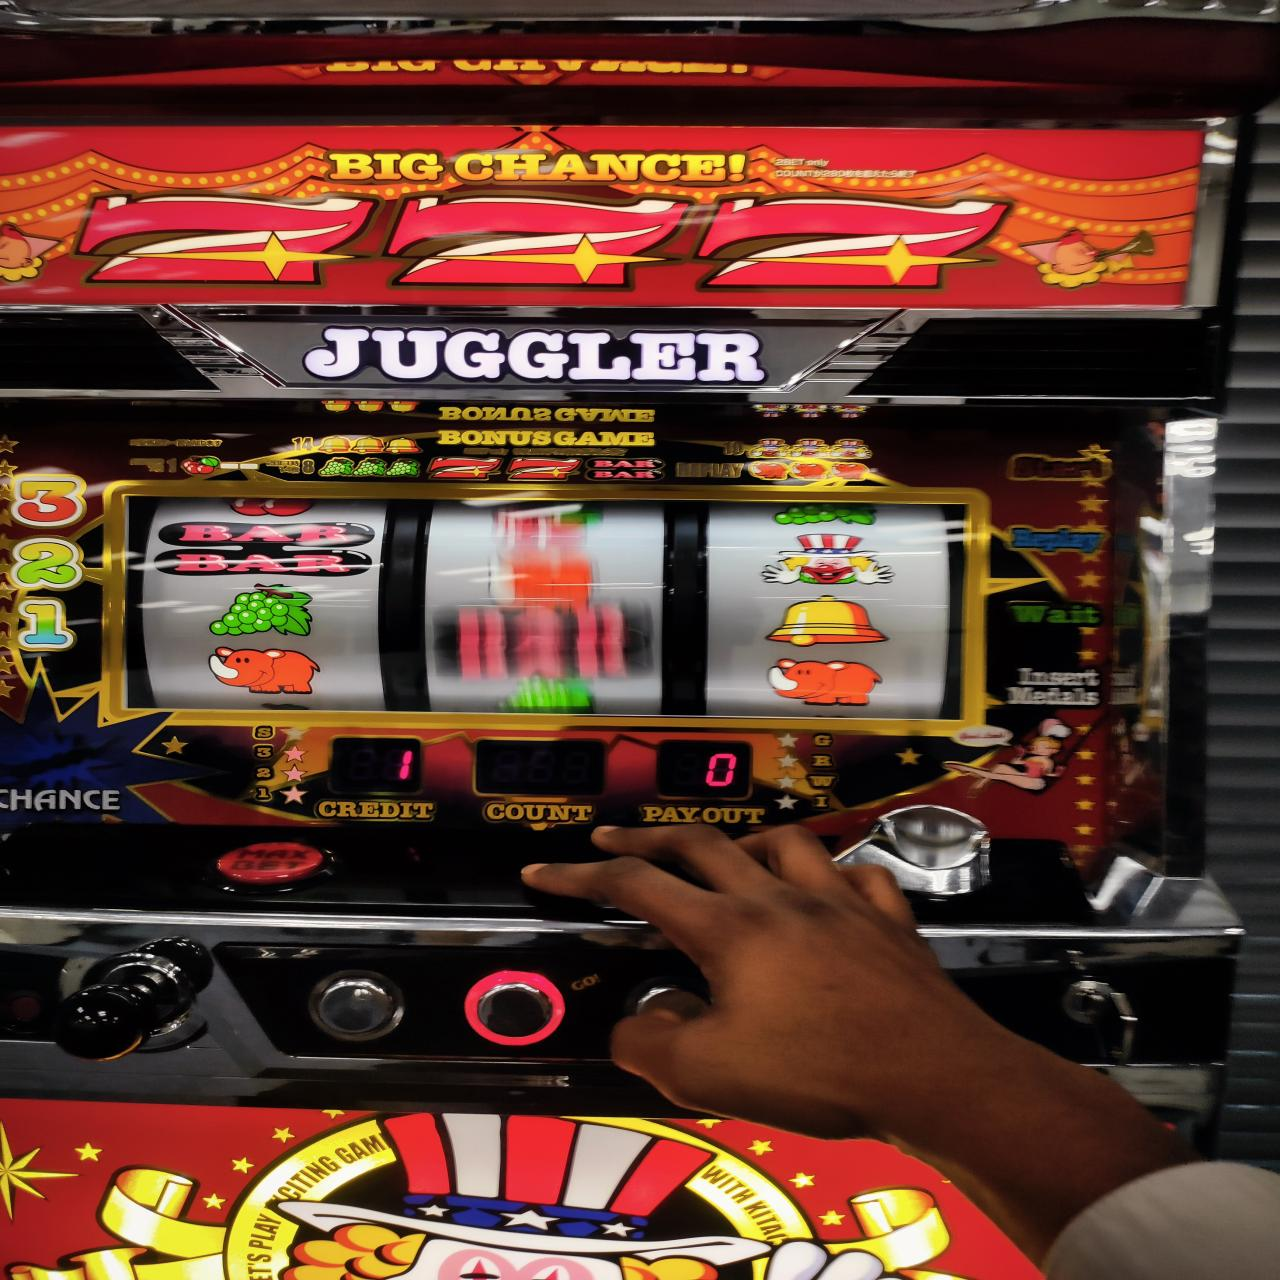8: (206, 649, 321, 697), (769, 659, 883, 706)
bar: (156, 522, 372, 577)
bell: (767, 593, 890, 648)
clown: (761, 532, 894, 587)
grape: (205, 583, 319, 639)
rhino: (124, 493, 967, 722)
